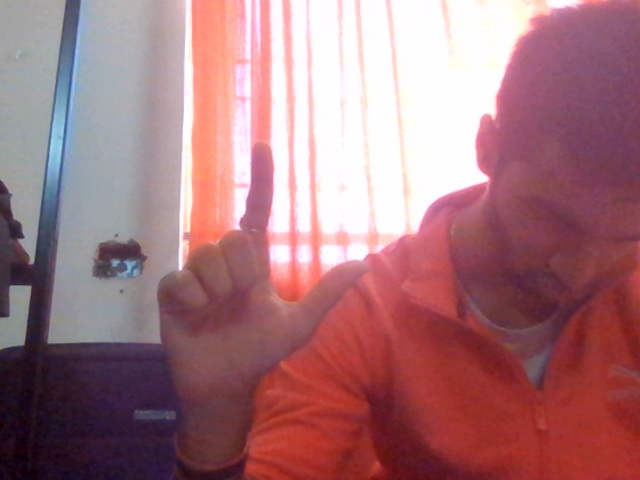L: (138, 114, 410, 463)
